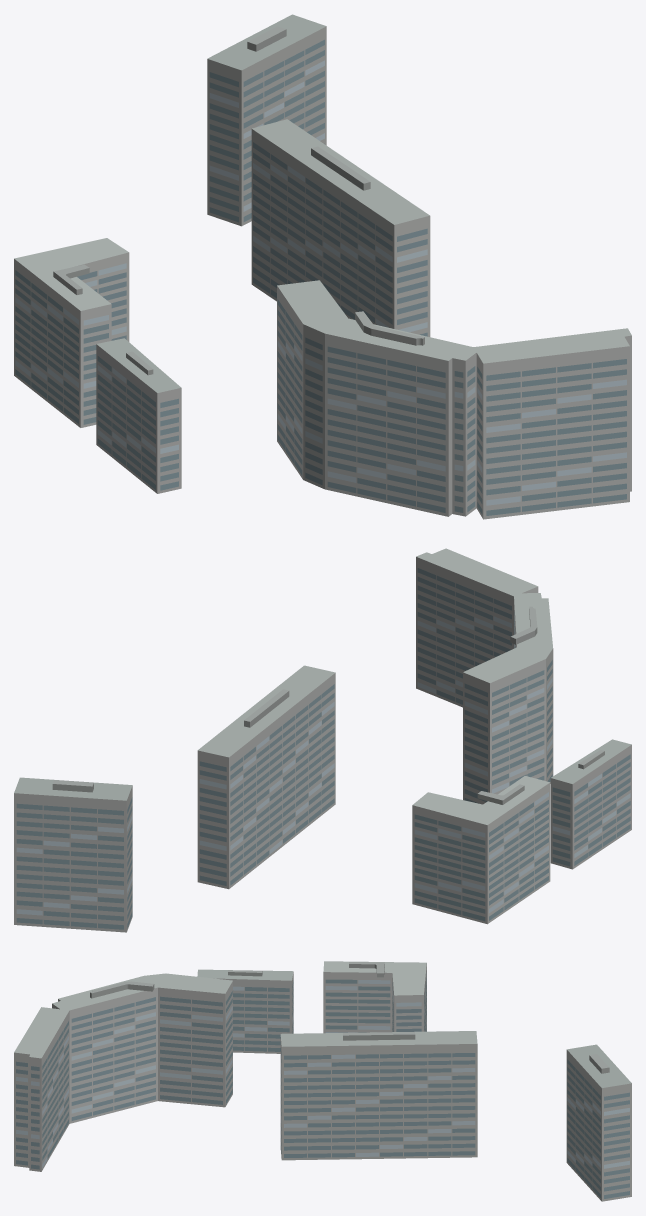
File: apt-a13003002.glb
The picture shows the model from 3 angles, top to bottom: view 1: azimuth 30°, elevation 25°; view 2: azimuth 150°, elevation 25°; view 3: azimuth 270°, elevation 25°; orthographic projection. The views are drawn at different scales.
Parts seen in each view (by area): view 1: apt-a13003002; view 2: apt-a13003002; view 3: apt-a13003002.
Boxes of the visible parts, x1,y1,x2,y2 form: apt-a13003002: (14, 14, 631, 519); apt-a13003002: (14, 548, 631, 932); apt-a13003002: (14, 961, 631, 1201).
Bounding box in the file's own units: 137 × 47.81 × 226.
